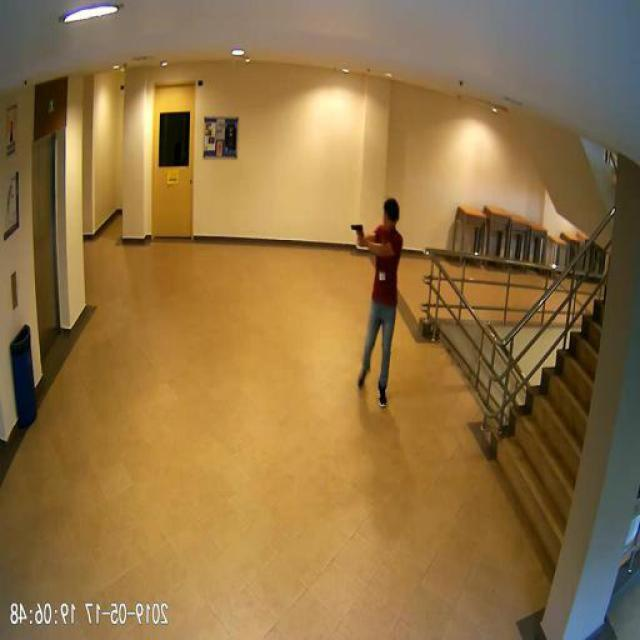weapon: (350, 224, 365, 243)
